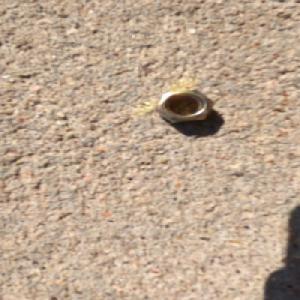Nut: (154, 89, 216, 125)
